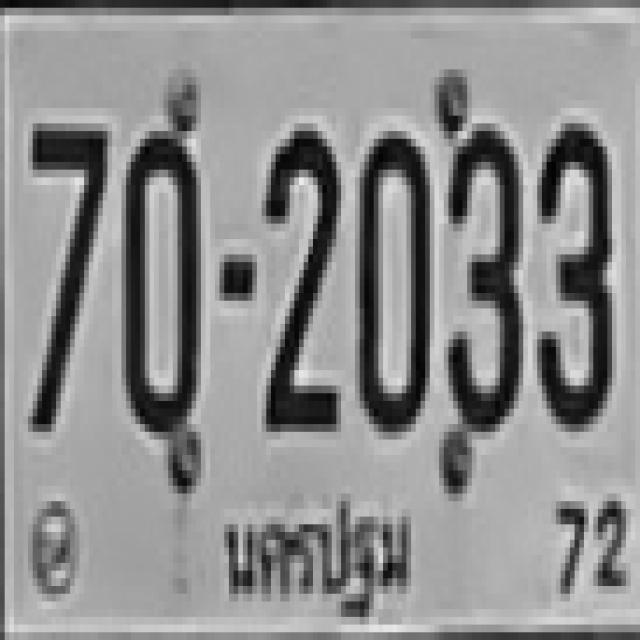0: (119, 128, 199, 440), (355, 123, 430, 433)
2: (259, 119, 339, 428)
3: (443, 120, 522, 428), (536, 116, 612, 427)
7: (28, 120, 106, 431)
NakhonPathom: (215, 473, 417, 634)
